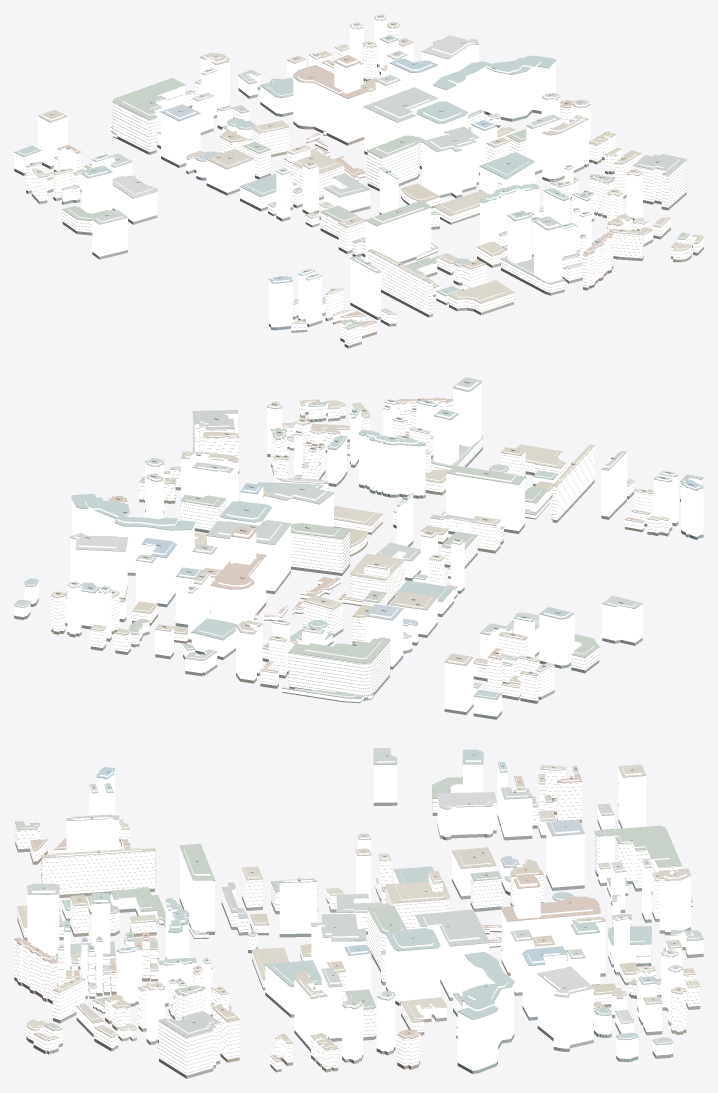
File: buildings-8_0-fine.glb
The picture shows the model from 3 angles, top to bottom: view 1: azimuth 30°, elevation 25°; view 2: azimuth 150°, elevation 25°; view 3: azimuth 270°, elevation 25°; orthographic projection. The views are drawn at different scales.
Visible parts, largest first — view 1: block_8_0_office, block_8_0_roof, block_8_0_residential, block_8_0_darkglass, block_8_0_concrete, block_8_0_steel; view 2: block_8_0_office, block_8_0_roof, block_8_0_residential, block_8_0_darkglass, block_8_0_concrete, block_8_0_steel; view 3: block_8_0_office, block_8_0_roof, block_8_0_residential, block_8_0_darkglass, block_8_0_concrete, block_8_0_steel.
Part boxes in pixels (x1=…): block_8_0_office: x1=14, y1=16, x2=653, y2=327; block_8_0_roof: x1=14, y1=14, x2=703, y2=343; block_8_0_residential: x1=26, y1=23, x2=703, y2=345; block_8_0_darkglass: x1=14, y1=64, x2=703, y2=348; block_8_0_concrete: x1=26, y1=24, x2=703, y2=343; block_8_0_steel: x1=14, y1=17, x2=652, y2=296; block_8_0_office: x1=14, y1=381, x2=703, y2=716; block_8_0_roof: x1=14, y1=377, x2=703, y2=708; block_8_0_residential: x1=51, y1=400, x2=703, y2=701; block_8_0_darkglass: x1=14, y1=412, x2=703, y2=719; block_8_0_concrete: x1=51, y1=401, x2=703, y2=698; block_8_0_steel: x1=14, y1=382, x2=703, y2=699; block_8_0_office: x1=27, y1=757, x2=703, y2=1070; block_8_0_roof: x1=14, y1=748, x2=703, y2=1073; block_8_0_residential: x1=14, y1=767, x2=700, y2=1075; block_8_0_darkglass: x1=14, y1=798, x2=703, y2=1078; block_8_0_concrete: x1=14, y1=769, x2=699, y2=1073; block_8_0_steel: x1=28, y1=764, x2=703, y2=1045.
Bounding box in the file's own units: 654 × 94.15 × 658.
